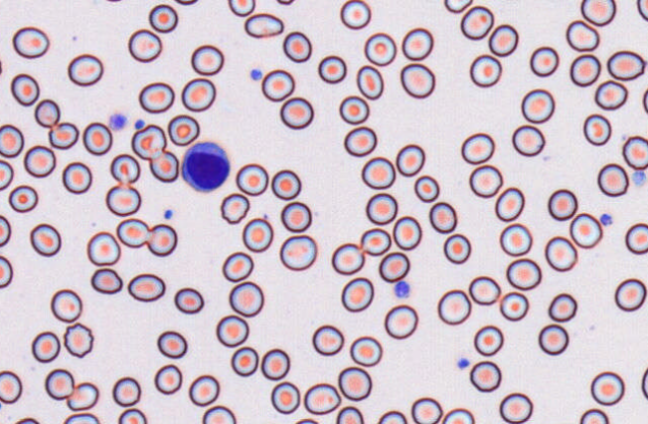LYM: (182, 140, 233, 194)
PLT: (107, 111, 128, 130), (394, 281, 411, 298), (631, 171, 646, 188), (249, 68, 265, 81), (455, 357, 470, 370), (600, 213, 613, 226), (133, 118, 147, 130), (165, 209, 175, 221)
RBC: (279, 234, 317, 270), (228, 281, 263, 317), (400, 62, 435, 98), (131, 124, 166, 159), (437, 289, 471, 325), (303, 382, 341, 414), (337, 366, 371, 401), (384, 304, 418, 339), (67, 53, 103, 86), (544, 235, 577, 271), (569, 212, 602, 248), (12, 26, 49, 58), (606, 50, 645, 80), (86, 231, 120, 265), (181, 77, 215, 111), (590, 371, 624, 405), (128, 28, 162, 62), (521, 88, 554, 123), (105, 184, 141, 216), (138, 81, 174, 113), (215, 314, 249, 347), (460, 5, 493, 39), (361, 156, 395, 189), (279, 96, 313, 129), (506, 258, 541, 290), (341, 277, 373, 312), (469, 164, 502, 197), (499, 223, 532, 256), (50, 288, 82, 322), (364, 32, 396, 66), (242, 217, 273, 252), (127, 273, 165, 301), (331, 242, 364, 274), (23, 145, 56, 177), (29, 223, 61, 256), (614, 278, 646, 311), (235, 163, 268, 195), (469, 54, 501, 87), (261, 69, 294, 101), (511, 124, 544, 156), (461, 132, 494, 164), (401, 27, 433, 60), (63, 322, 93, 357), (167, 114, 199, 146), (365, 192, 397, 224), (469, 360, 501, 392), (146, 223, 177, 256), (499, 392, 532, 423), (190, 44, 223, 75), (569, 53, 600, 86), (594, 79, 627, 110), (597, 163, 628, 196), (349, 335, 382, 366), (82, 121, 112, 155), (494, 187, 524, 221), (392, 215, 421, 250), (188, 374, 219, 406), (312, 324, 344, 355), (395, 143, 425, 176), (116, 217, 149, 247), (62, 161, 92, 194), (343, 126, 376, 156), (270, 381, 300, 414), (488, 23, 518, 56), (222, 251, 253, 282), (280, 201, 311, 232), (378, 251, 409, 282), (149, 150, 179, 182), (44, 368, 74, 400), (468, 275, 500, 305), (260, 348, 290, 380), (473, 324, 503, 356), (538, 323, 568, 355), (547, 188, 577, 220), (66, 381, 99, 410), (10, 73, 39, 106), (356, 64, 383, 99), (580, 0, 616, 26), (271, 169, 301, 200), (428, 201, 457, 233), (339, 0, 371, 29), (622, 135, 648, 170), (110, 153, 140, 183), (529, 46, 559, 76), (220, 192, 249, 223), (31, 331, 60, 362), (282, 31, 311, 62), (583, 113, 611, 145), (112, 376, 141, 406), (499, 291, 528, 321), (548, 292, 577, 322), (339, 95, 369, 124), (443, 233, 471, 264), (154, 363, 182, 394), (360, 227, 391, 255), (156, 330, 187, 358), (90, 267, 122, 294), (48, 121, 78, 149), (8, 184, 38, 212), (230, 346, 258, 376), (148, 4, 178, 32), (410, 397, 442, 423), (0, 123, 24, 157), (317, 55, 346, 83), (174, 287, 203, 314), (34, 98, 60, 127), (413, 174, 439, 202), (0, 370, 22, 403), (625, 222, 647, 254), (202, 405, 236, 423), (441, 407, 474, 423), (336, 405, 363, 423), (117, 408, 147, 423), (227, 0, 255, 16), (0, 254, 13, 288), (579, 408, 608, 423), (63, 412, 100, 423), (0, 159, 13, 190), (377, 410, 407, 423), (444, 0, 472, 13), (0, 214, 11, 246), (636, 0, 648, 21), (641, 366, 648, 399), (642, 86, 648, 114), (14, 417, 39, 423), (173, 0, 198, 5), (294, 418, 318, 423), (275, 0, 295, 5), (0, 57, 2, 78), (104, 0, 124, 2)
Schistocyte: (566, 19, 599, 52), (244, 13, 285, 39)
